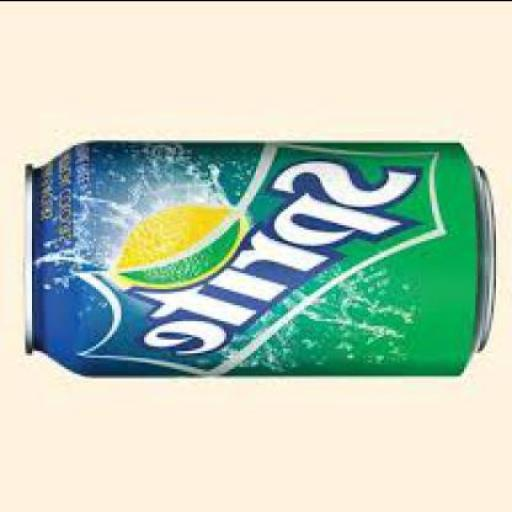metal: (19, 137, 491, 375)
